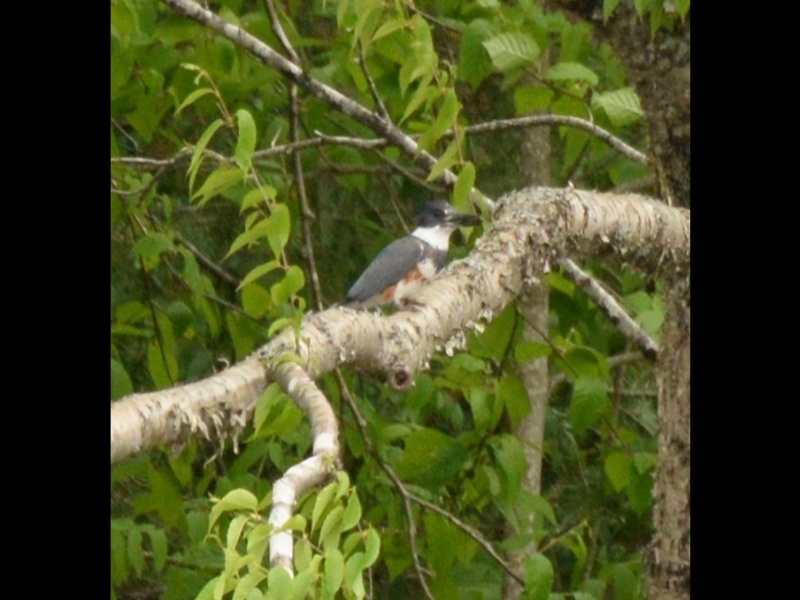kingfisher: (338, 200, 480, 320)
